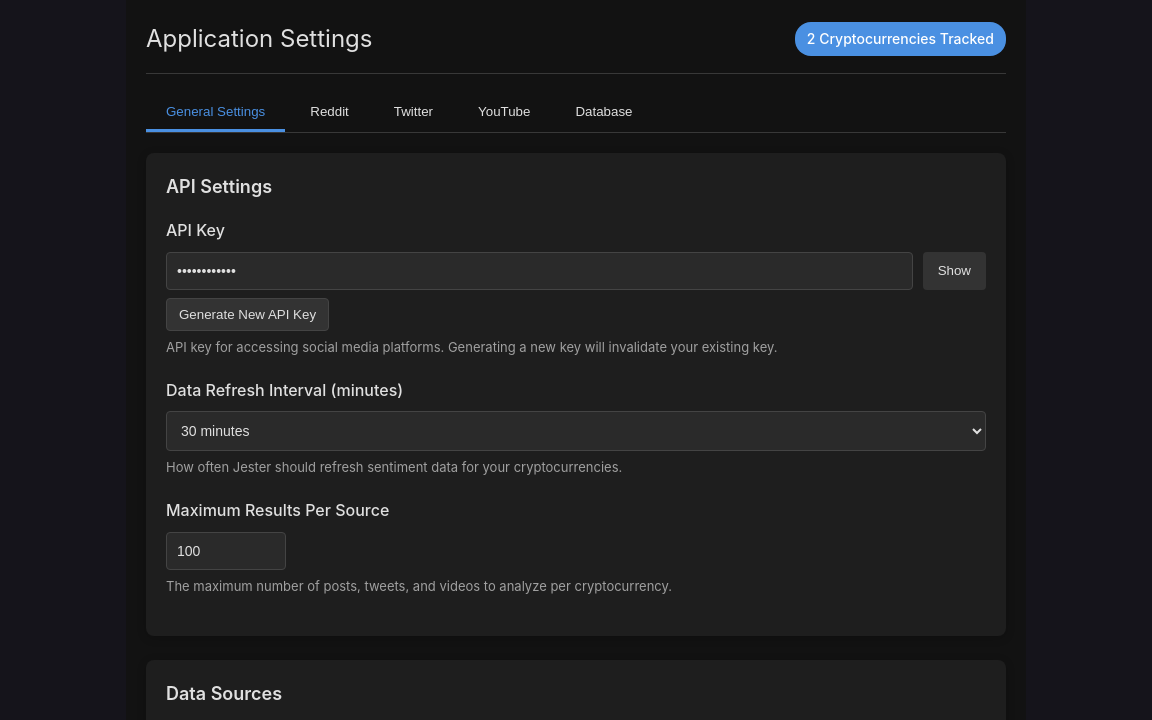
Test case: Settings Component › allows generating a new API key
Click the button "Generate New API Key" at (248, 314), box [166,298,329,331]
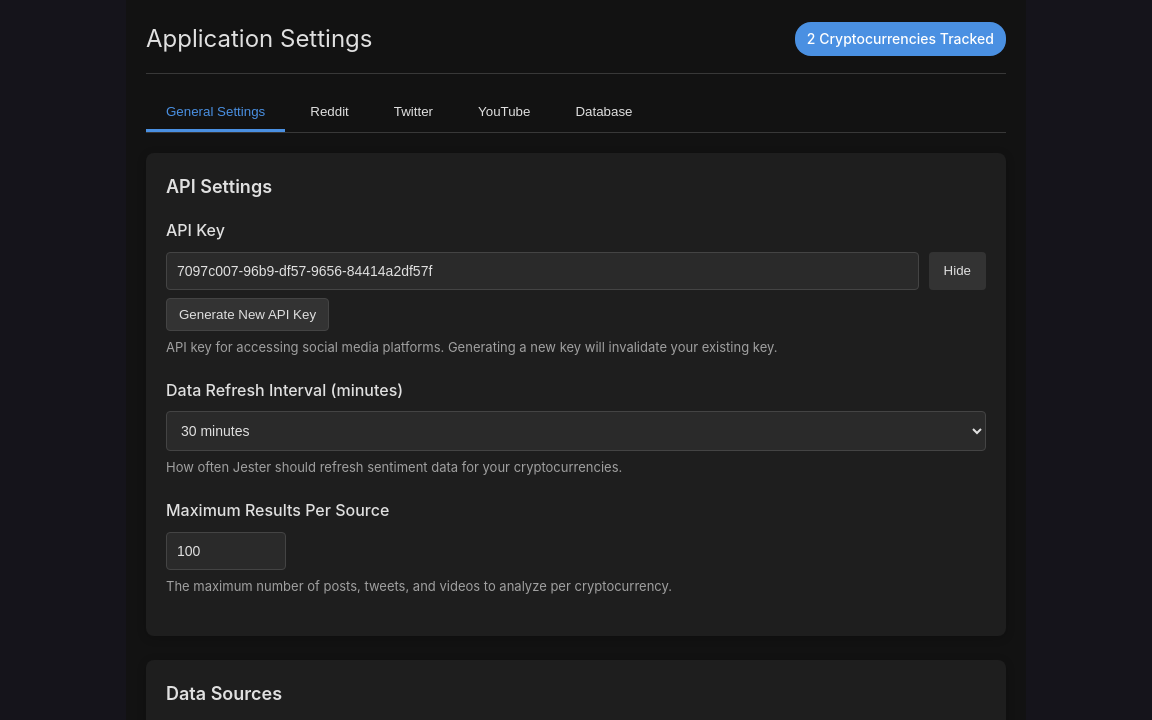
expect the field labelled "API Key" does not hold "test-api-key": met, box [166,252,919,290]
